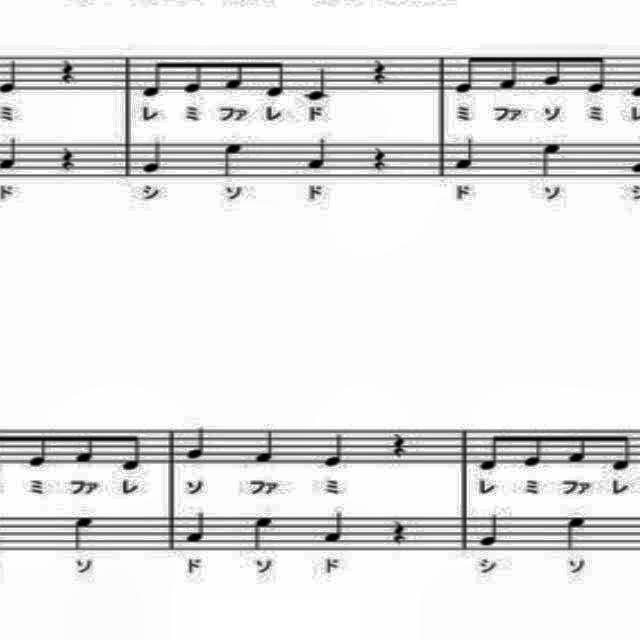Eighth-note: (451, 44, 483, 100), (580, 48, 612, 98), (494, 46, 526, 94), (140, 52, 168, 104), (477, 424, 505, 474), (22, 428, 52, 472), (564, 425, 592, 471), (120, 429, 146, 478), (518, 426, 544, 474), (608, 426, 634, 474), (222, 51, 250, 95), (540, 48, 568, 92), (182, 53, 208, 99), (266, 58, 290, 102), (72, 427, 98, 467)
Quarter-note: (219, 138, 251, 182), (537, 140, 571, 180), (322, 426, 351, 472), (67, 512, 96, 556), (300, 66, 332, 104), (251, 512, 277, 556), (303, 135, 333, 173), (561, 514, 589, 554), (450, 136, 478, 172), (322, 508, 350, 544), (140, 139, 166, 177), (254, 427, 278, 468), (478, 510, 502, 550), (186, 510, 210, 548), (186, 423, 206, 462)
Quarter-rest: (386, 514, 414, 552), (370, 144, 394, 184), (369, 50, 395, 86), (58, 141, 84, 173), (389, 424, 411, 460), (54, 59, 82, 87)
